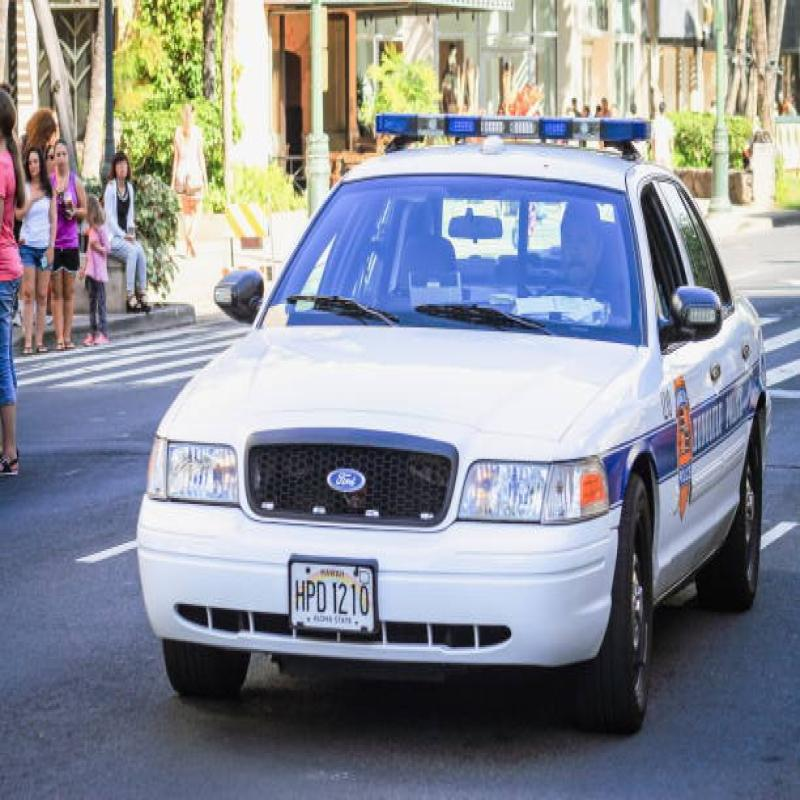AmbulanceSiren: (368, 56, 664, 192)
